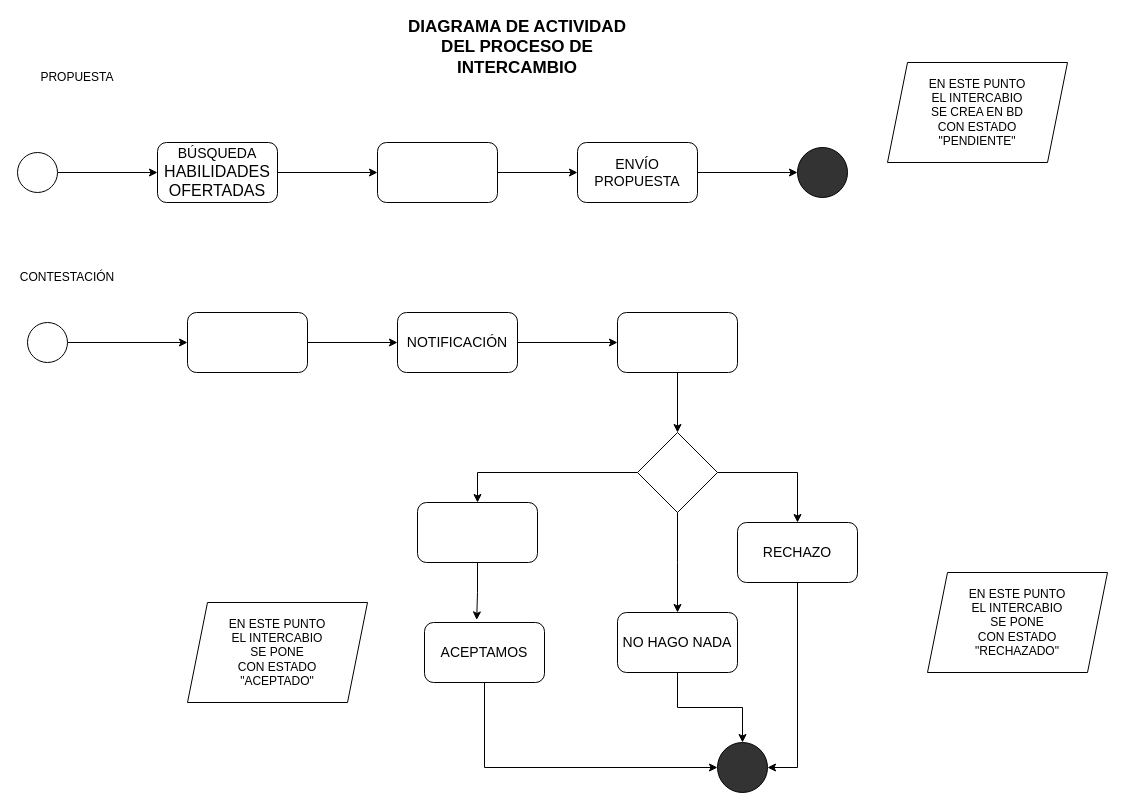
The diagram is 1125 pixels wide and 810 high, and some of its shapes have lost their labels. The box of each missing label's shape, as (x1, y1, x2, y2) in pixels:
ACCEDO AL PERFIL: (186, 312, 308, 372)
SELECCIONO HABILIDAD: (416, 502, 538, 562)
SELECCIÓN PERFIL ELEGIDO: (376, 142, 498, 202)
VISUALIZO LA OFERTA: (616, 312, 738, 372)
